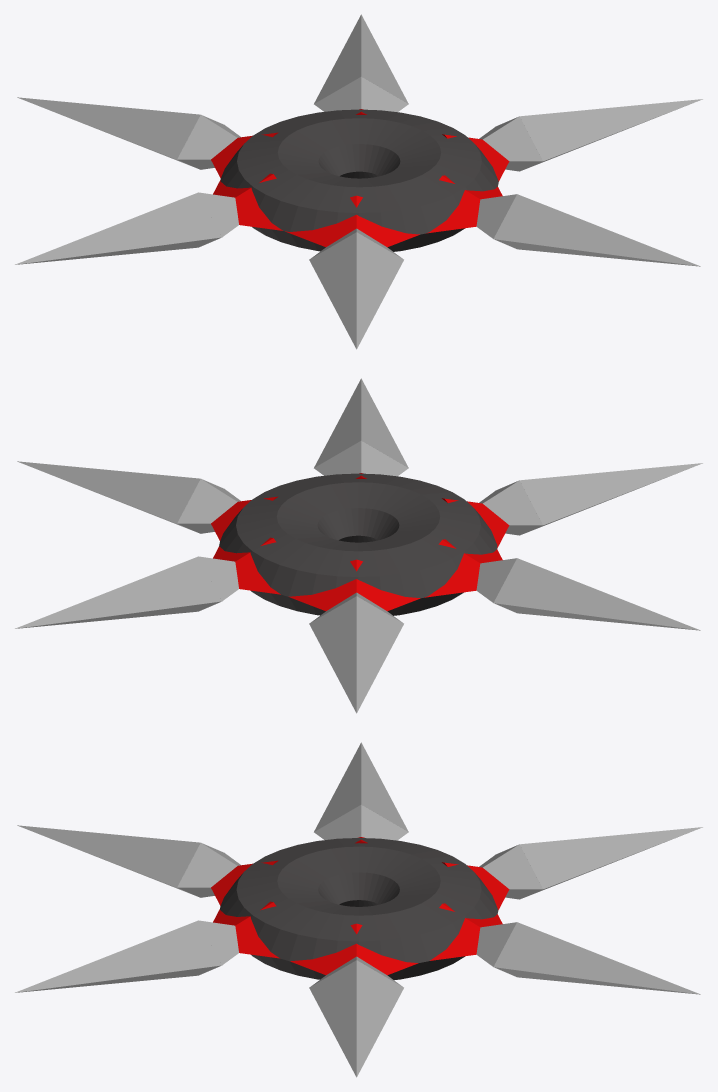
File: Hira-Shuriken.fbx
3 views of the same model, one above another, from view 1: azimuth 30°, elevation 25°; view 2: azimuth 150°, elevation 25°; view 3: azimuth 270°, elevation 25° (orthographic).
Parts seen in each view (by area): view 1: Torus.002, Cone.006, Cone, Cone.003, Cone.015, Cone.009, Cone.012, Cone.014, Cone.011, Cone.017, Cone.004, Cone.001 (+5 smaller); view 2: Torus.002, Cone, Cone.012, Cone.015, Cone.009, Cone.003, Cone.006, Cone.008, Cone.005, Cone.011, Cone.016, Cone.001 (+5 smaller); view 3: Torus.002, Cone.012, Cone.006, Cone.009, Cone.003, Cone.015, Cone, Cone.002, Cone.017, Cone.005, Cone.010, Cone.013 (+5 smaller).
Part boxes in pixels (box(x1,y1,x2,y2)): Torus.002: box(220, 109, 498, 251); Cone.006: box(493, 194, 700, 266); Cone: box(15, 192, 221, 264); Cone.003: box(309, 232, 403, 349); Cone.015: box(17, 97, 200, 167); Cone.009: box(520, 99, 702, 170); Cone.012: box(314, 14, 408, 103); Cone.014: box(314, 76, 408, 112); Cone.011: box(479, 116, 542, 171); Cone.017: box(177, 115, 240, 169); Cone.004: box(285, 195, 419, 247); Cone.001: box(213, 173, 282, 230); Torus.002: box(219, 473, 497, 615); Cone: box(493, 558, 700, 630); Cone.012: box(15, 556, 221, 628); Cone.015: box(309, 596, 403, 713); Cone.009: box(17, 461, 200, 531); Cone.003: box(520, 463, 702, 534); Cone.006: box(314, 378, 408, 467); Cone.008: box(314, 440, 408, 476); Cone.005: box(479, 480, 542, 535); Cone.011: box(177, 479, 240, 533); Cone.016: box(288, 559, 420, 611); Cone.001: box(424, 539, 502, 597); Torus.002: box(220, 838, 498, 980); Cone.012: box(493, 922, 700, 994); Cone.006: box(15, 920, 221, 992); Cone.009: box(309, 960, 403, 1077); Cone.003: box(17, 825, 200, 895); Cone.015: box(520, 827, 702, 898); Cone: box(314, 742, 408, 831); Cone.002: box(314, 804, 408, 840); Cone.017: box(479, 844, 542, 899); Cone.005: box(177, 843, 240, 897); Cone.010: box(290, 923, 418, 975); Cone.013: box(430, 903, 502, 960).
Bounding box in the file's own units: 256 × 20.74 × 223.
